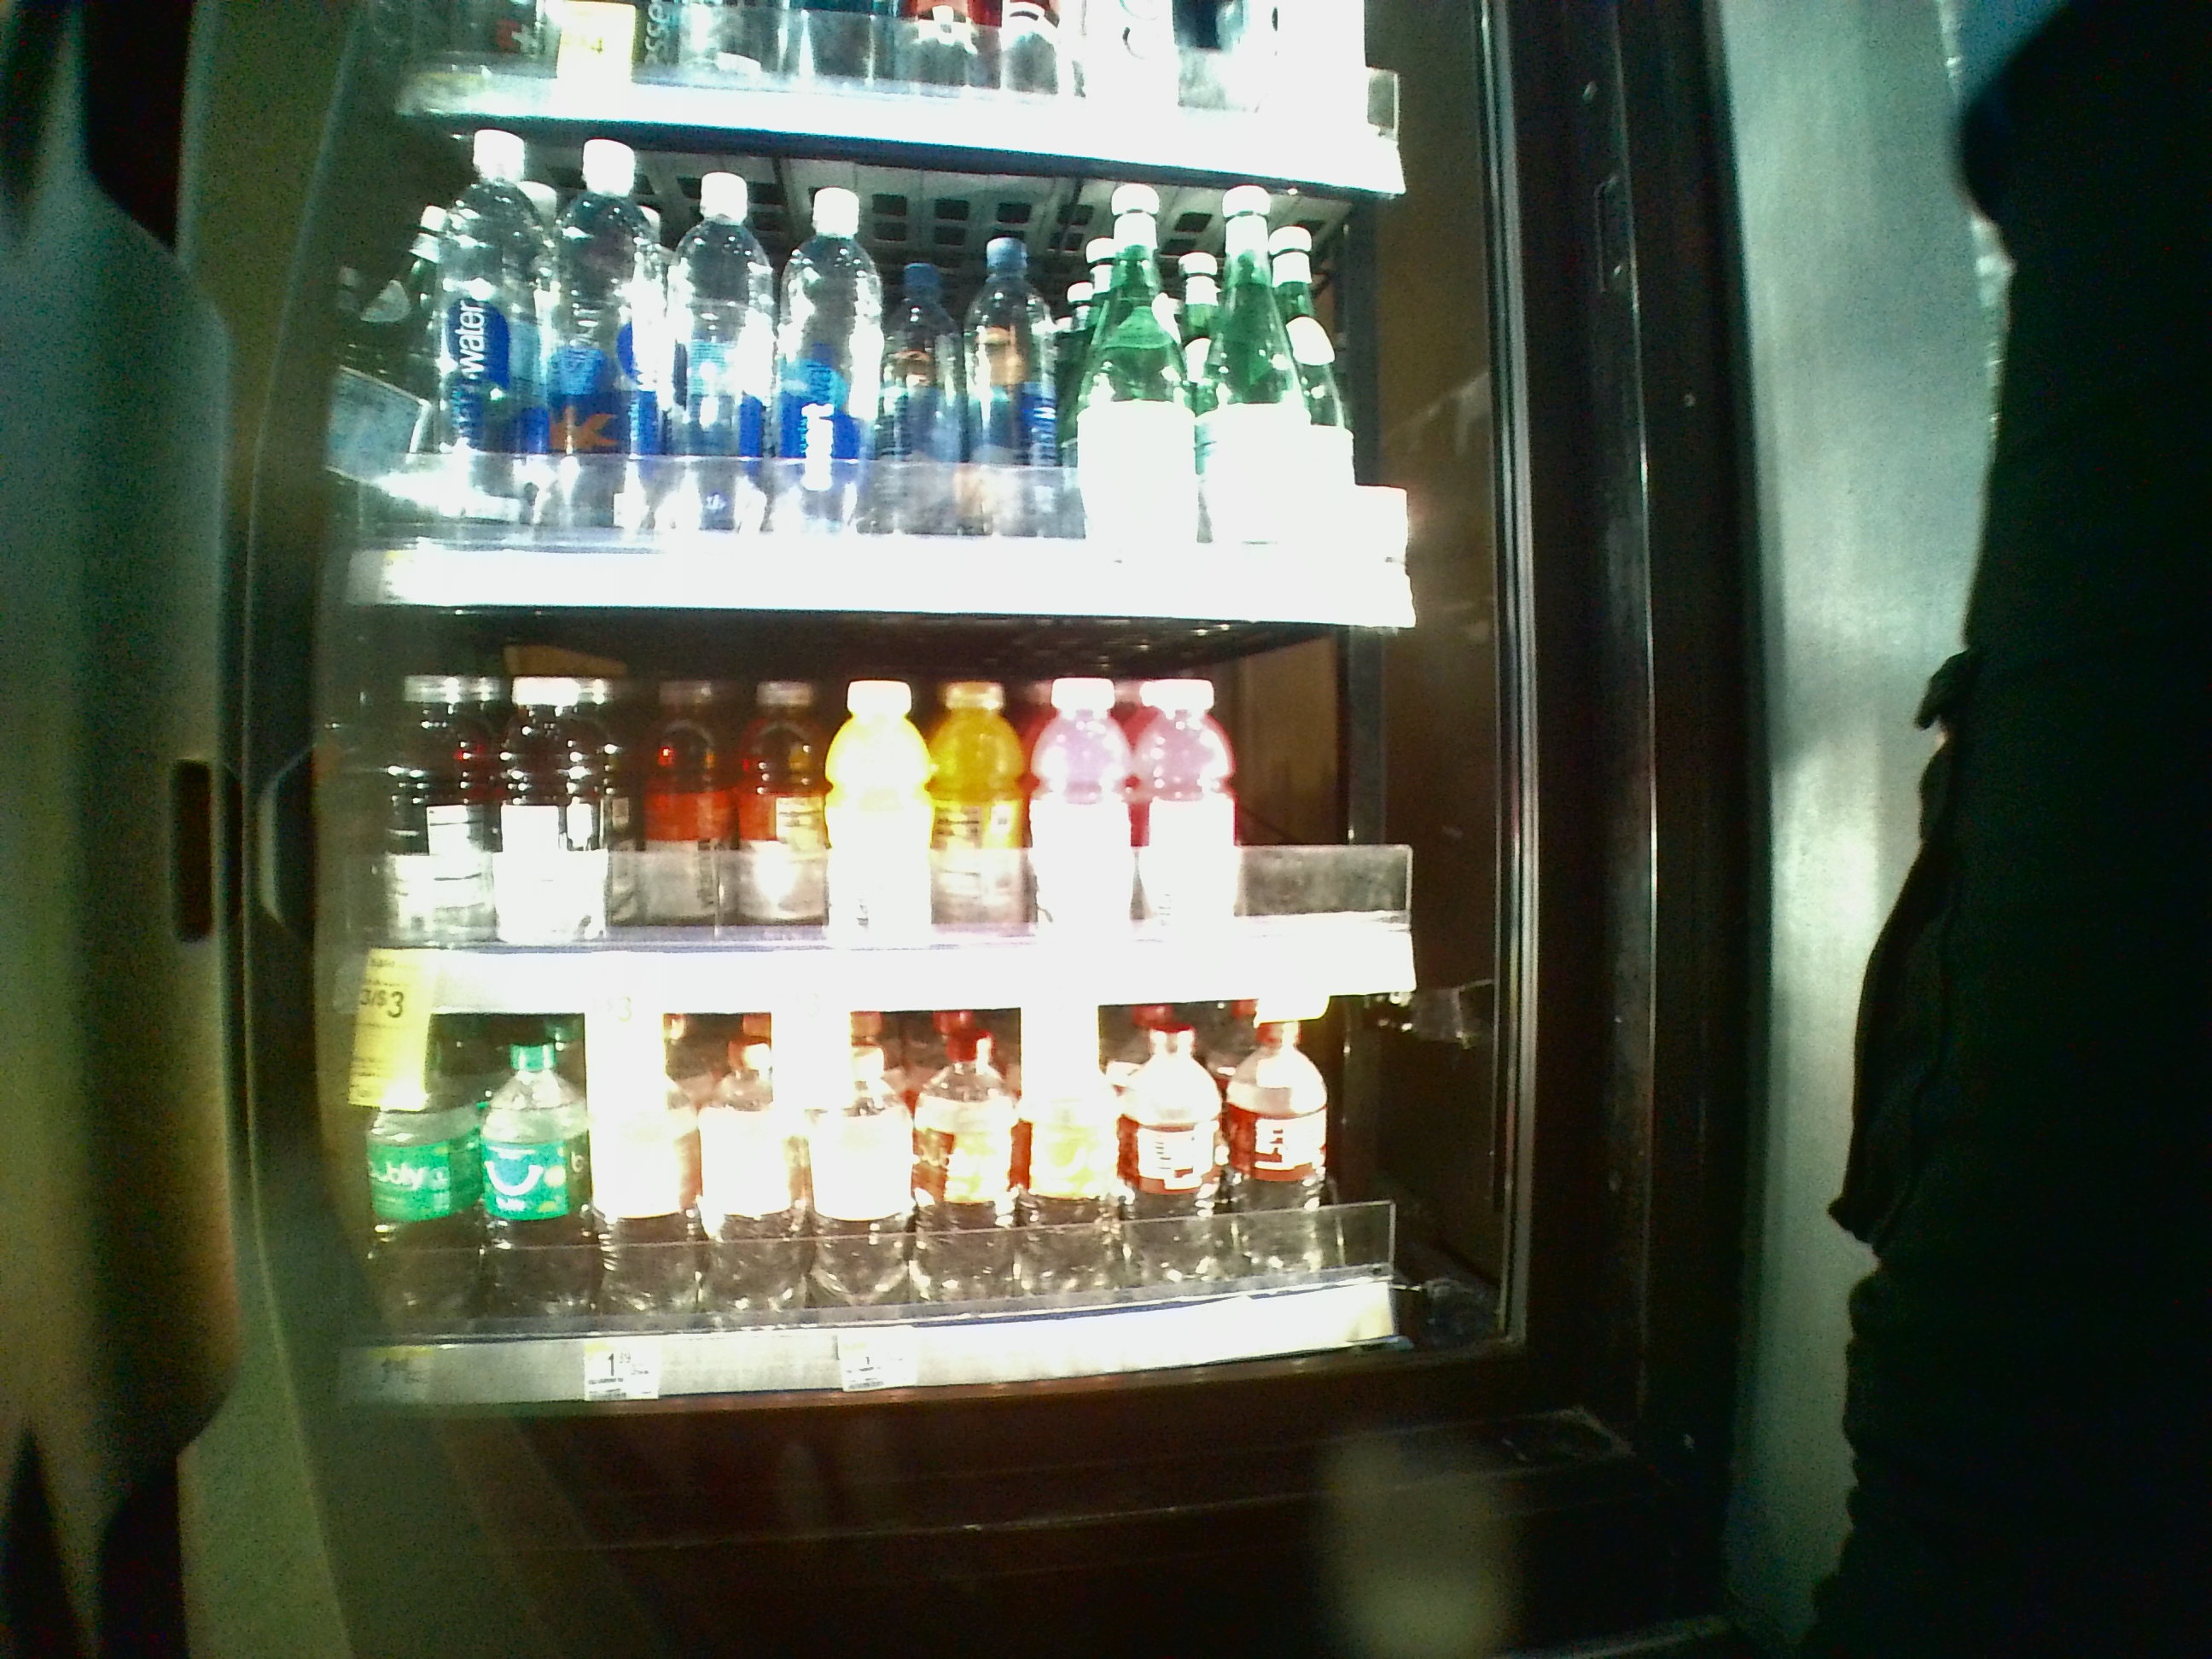shelf: (326, 113, 1503, 627), (326, 1002, 1531, 1412), (331, 626, 1505, 1009)
